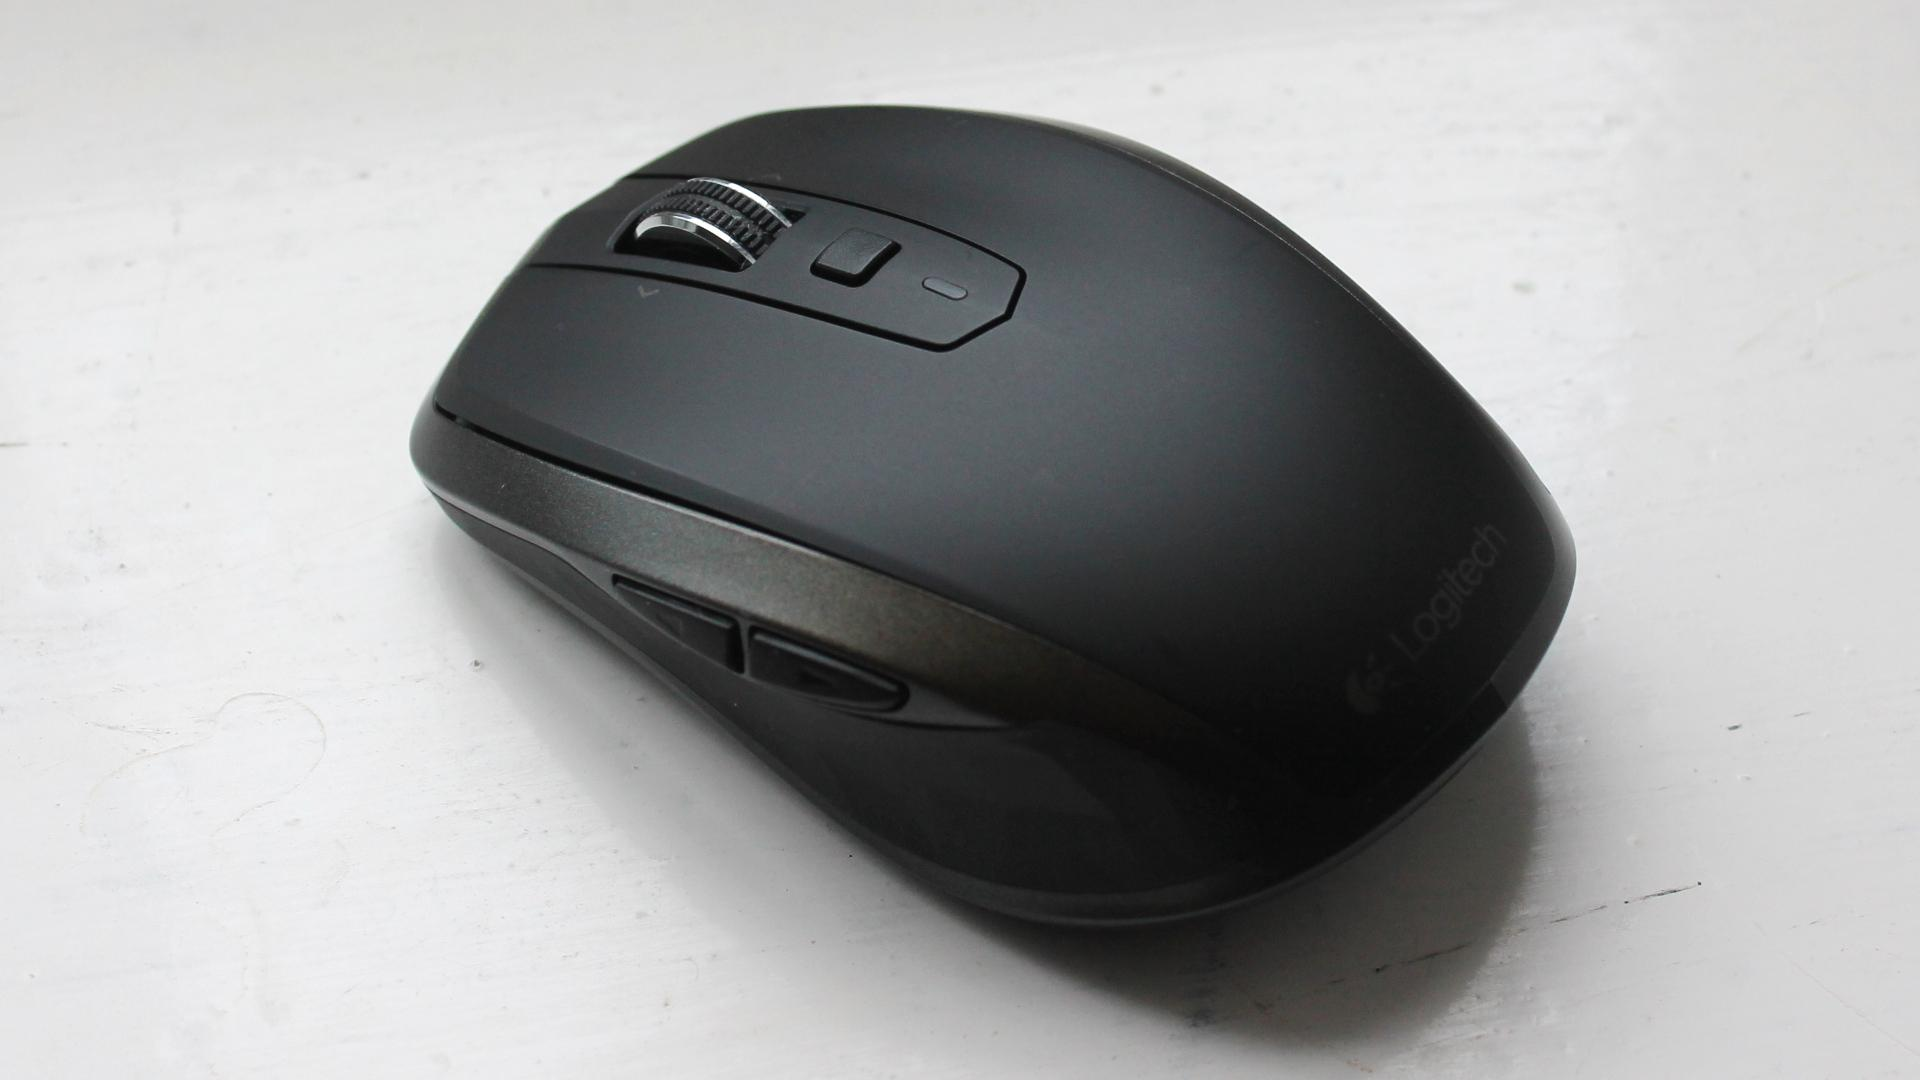computer mouse: (405, 104, 1580, 944)
